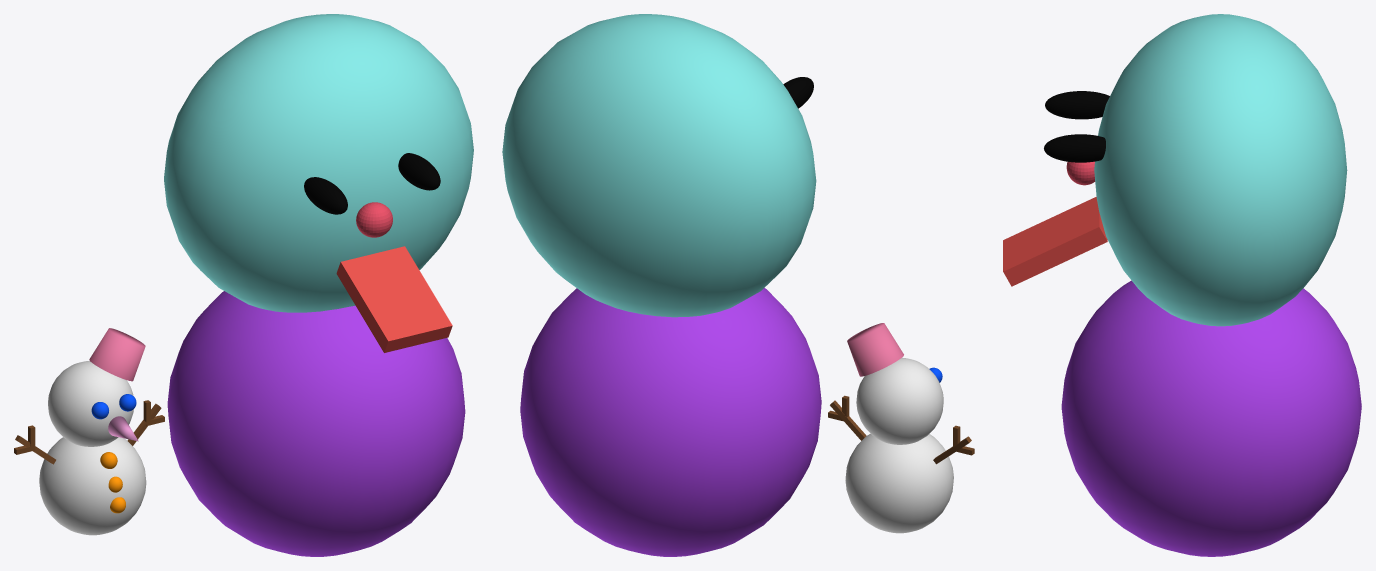
3 views of the same model, side by side, from view 1: azimuth 30°, elevation 25°; view 2: azimuth 150°, elevation 25°; view 3: azimuth 270°, elevation 25° (orthographic).
Visible parts, largest first — view 1: 球.008, 球.007, 球, 立方体.001, 球.001, 円柱, 球.009, 球.010, 球.011, 立方体.004; view 2: 球.008, 球.007, 球, 球.001, 円柱, 球.009, 立方体.004; view 3: 球.007, 球.008, 立方体.001, 球.010, 球.009, 球.011.
Part boxes in pixels (box(x1,y1,x2,y2)): 球.008: box(164, 14, 473, 312); 球.007: box(167, 291, 465, 556); 球: box(39, 437, 146, 535); 立方体.001: box(336, 246, 452, 352); 球.001: box(48, 361, 133, 446); 円柱: box(89, 328, 145, 381); 球.009: box(304, 177, 347, 214); 球.010: box(398, 153, 440, 190); 球.011: box(356, 202, 392, 237); 立方体.004: box(127, 400, 164, 445); 球.008: box(502, 14, 816, 317); 球.007: box(520, 288, 821, 556); 球: box(845, 433, 953, 533); 球.001: box(856, 357, 943, 444); 円柱: box(847, 323, 903, 376); 球.009: box(783, 77, 813, 108); 立方体.004: box(828, 395, 866, 440); 球.007: box(1061, 280, 1361, 556); 球.008: box(1094, 14, 1347, 326); 立方体.001: box(1003, 196, 1107, 286); 球.010: box(1044, 134, 1105, 162); 球.009: box(1045, 91, 1109, 119); 球.011: box(1066, 161, 1095, 185).
Bounding box in the file's own units: 4.21 × 4.6 × 2.9.
